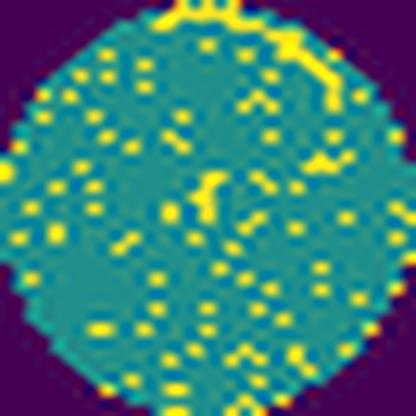Edge-Loc: (142, 0, 344, 115)
